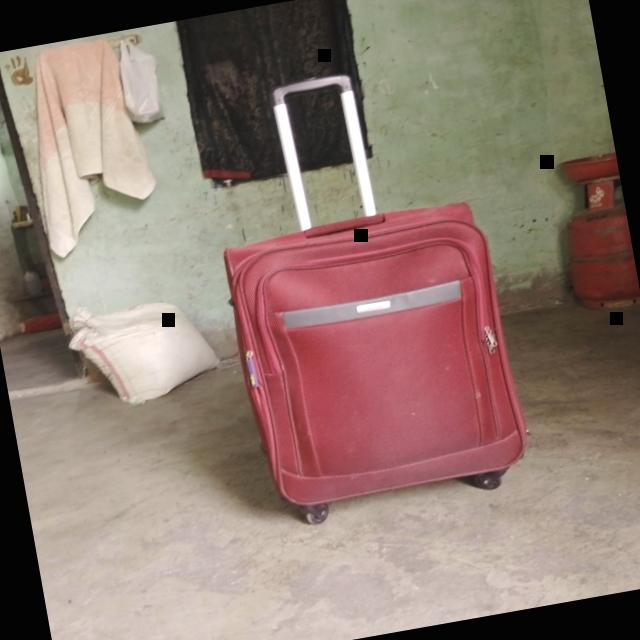luggage: (212, 188, 537, 518)
